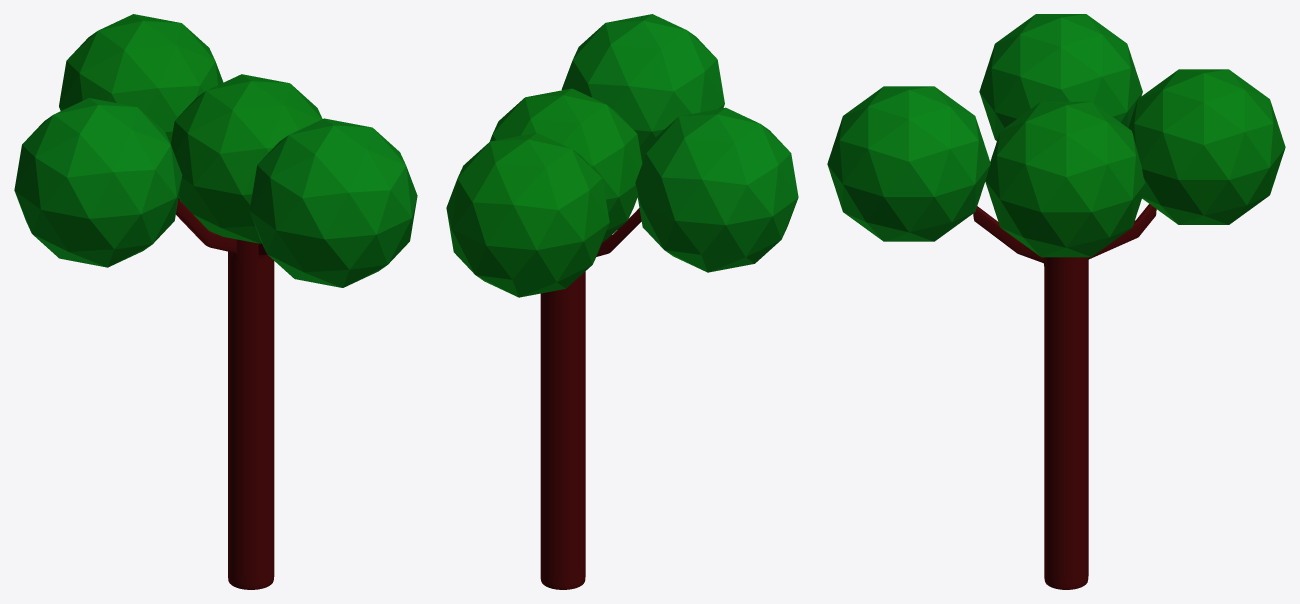
Rendered from tree.glb.
3 renders of one model, left to right at view 1: azimuth 30°, elevation 25°; view 2: azimuth 150°, elevation 25°; view 3: azimuth 270°, elevation 25°, orthographic. The views are drawn at different scales.
Visible parts, largest first — view 1: Icosphere.002, Icosphere.003, Cylinder, Icosphere, Icosphere.001; view 2: Icosphere.001, Icosphere.003, Cylinder, Icosphere.002, Icosphere; view 3: Icosphere.002, Icosphere, Icosphere.001, Cylinder, Icosphere.003.
Boxes of the visible parts, x1,y1,x2,y2 form: Icosphere.002: [249, 118, 417, 287]; Icosphere.003: [14, 98, 182, 267]; Cylinder: [176, 198, 274, 589]; Icosphere: [170, 74, 322, 243]; Icosphere.001: [59, 14, 223, 143]; Icosphere.001: [446, 132, 609, 297]; Icosphere.003: [635, 107, 798, 272]; Cylinder: [540, 208, 641, 589]; Icosphere.002: [561, 14, 724, 163]; Icosphere: [490, 88, 642, 242]; Icosphere.002: [827, 86, 990, 241]; Icosphere: [985, 101, 1145, 257]; Icosphere.001: [1128, 69, 1285, 224]; Cylinder: [973, 204, 1156, 589]; Icosphere.003: [979, 14, 1142, 140].
Bounding box in the file's own units: 3.99 × 6.62 × 5.6.
